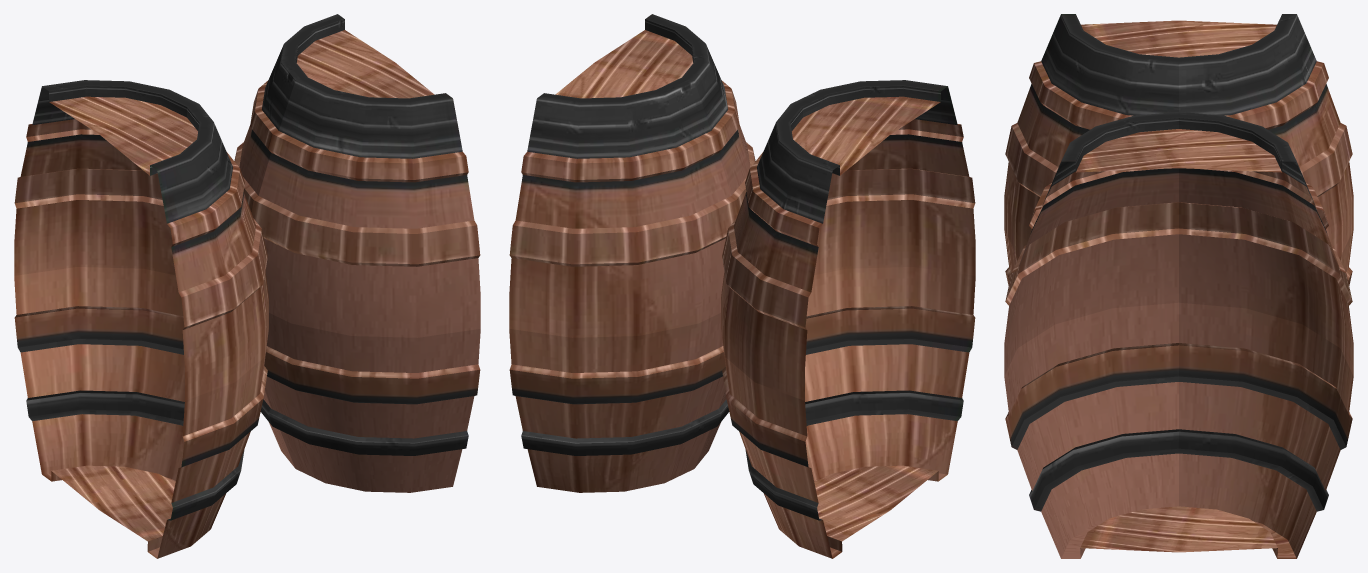
File: Barrel.glb
3 views of the same model, side by side, from view 1: azimuth 30°, elevation 25°; view 2: azimuth 150°, elevation 25°; view 3: azimuth 270°, elevation 25° (orthographic). The views are drawn at different scales.
Parts seen in each view (by area): view 1: Barrel; view 2: Barrel; view 3: Barrel.
Boxes of the visible parts, <box> form: Barrel: <box>14,14,480,558</box>; Barrel: <box>509,14,975,558</box>; Barrel: <box>1004,14,1353,558</box>.
Size of the model in its own units: 7 by 8.78 by 7.
1 material, 1 textured.
